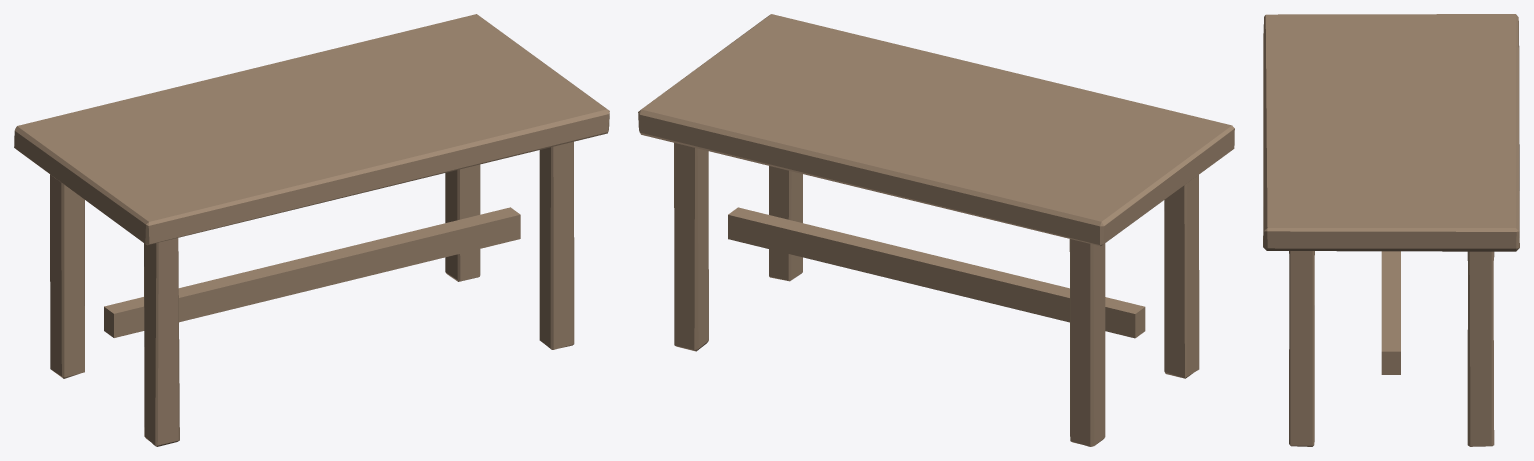
The model's file is table_godot.glb.
3 views of the same model, side by side, from view 1: azimuth 30°, elevation 25°; view 2: azimuth 150°, elevation 25°; view 3: azimuth 270°, elevation 25° (orthographic). The views are drawn at different scales.
Visible parts, largest first — view 1: table; view 2: table; view 3: table.
Boxes of the visible parts, left/top/right/bottom form: table: left=14, top=14, right=609, bottom=446; table: left=638, top=14, right=1234, bottom=446; table: left=1263, top=14, right=1519, bottom=446.
Size of what is drawn, in the model's own units: 1.6 by 0.7917 by 0.8028.
